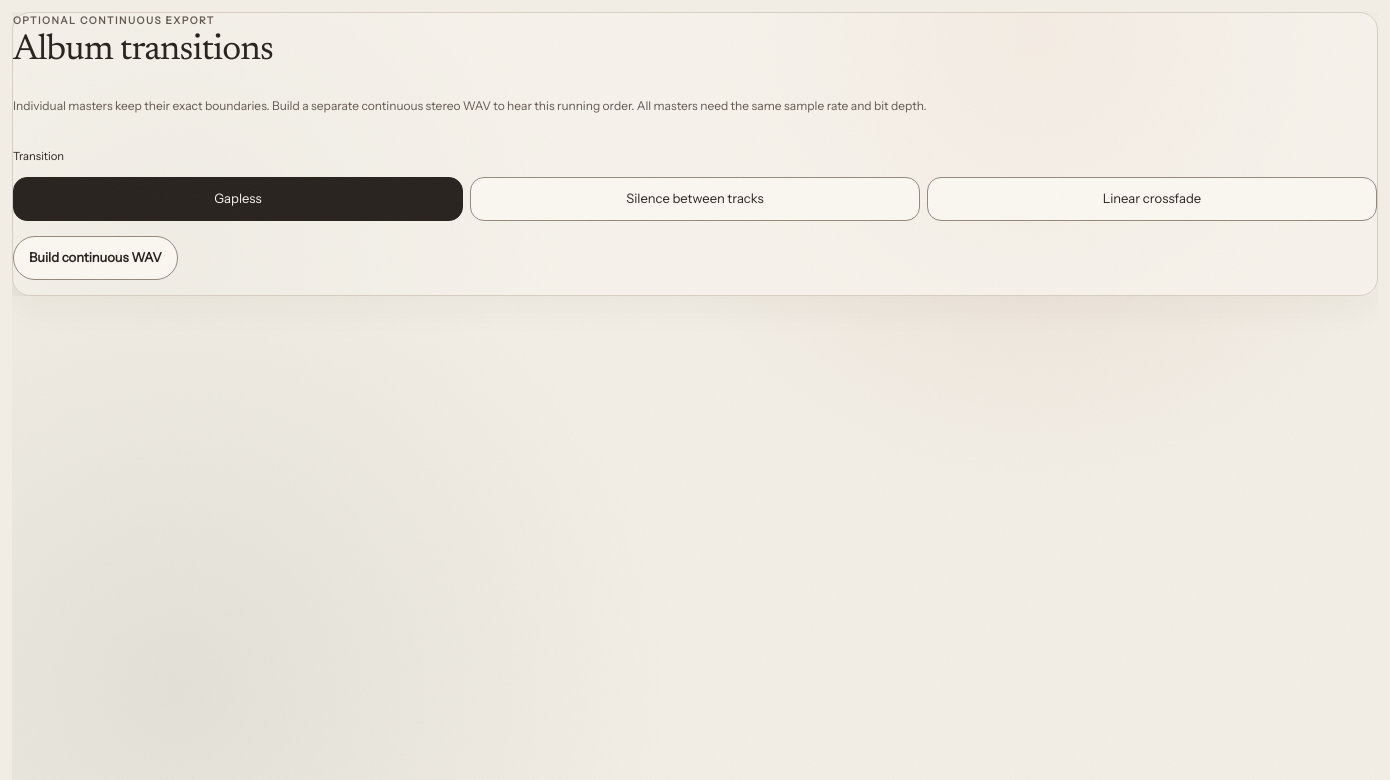
Test case: continuous album ownership › refuses a disappeared saved master before mixing
Click the button "Build continuous WAV".
click(95, 258)  # box x1=13 y1=236 x2=178 y2=280
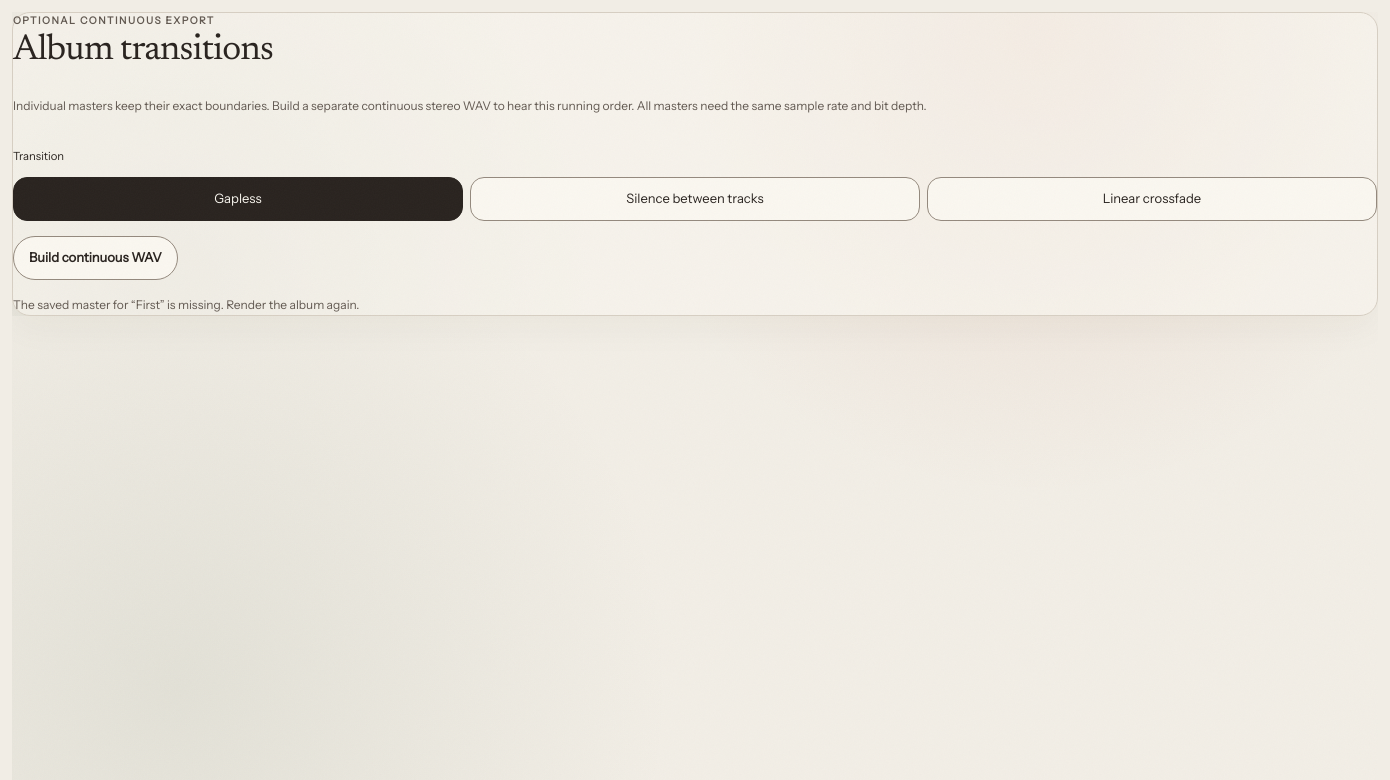
Check: the text "The saved master for “First” is missing. Render the album again." is shown, box x1=13 y1=297 x2=359 y2=312
